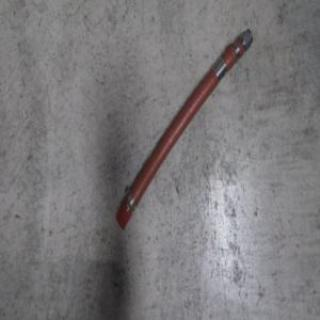Hosetrack_idkeyframe: (114, 23, 254, 232)
